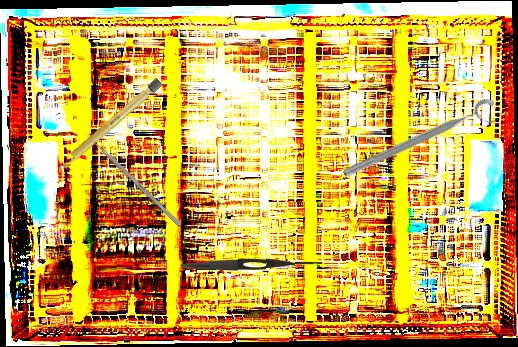Dressing Forceps: (180, 255, 324, 273)
Fixation Ring: (340, 94, 503, 191)
Pusher: (82, 130, 182, 227)
Scalpel Handle: (56, 77, 163, 173)
